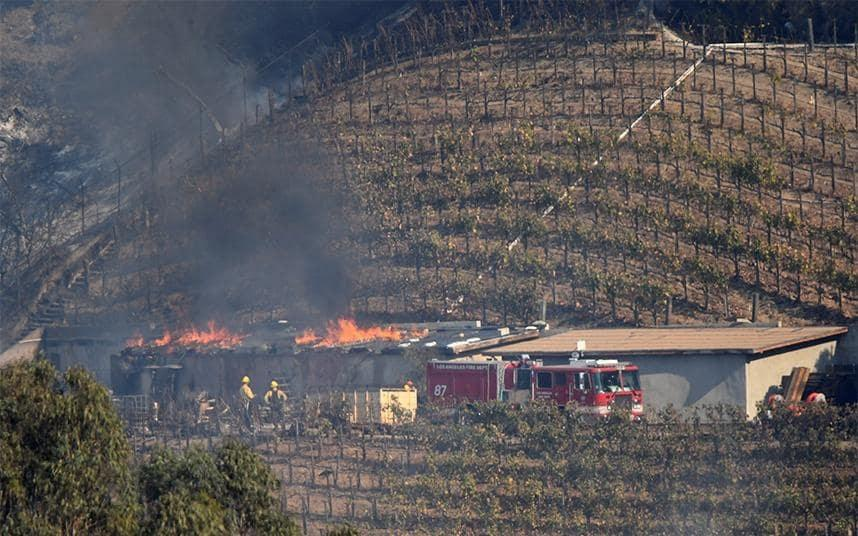Fire: (138, 303, 252, 357), (292, 314, 408, 355)
